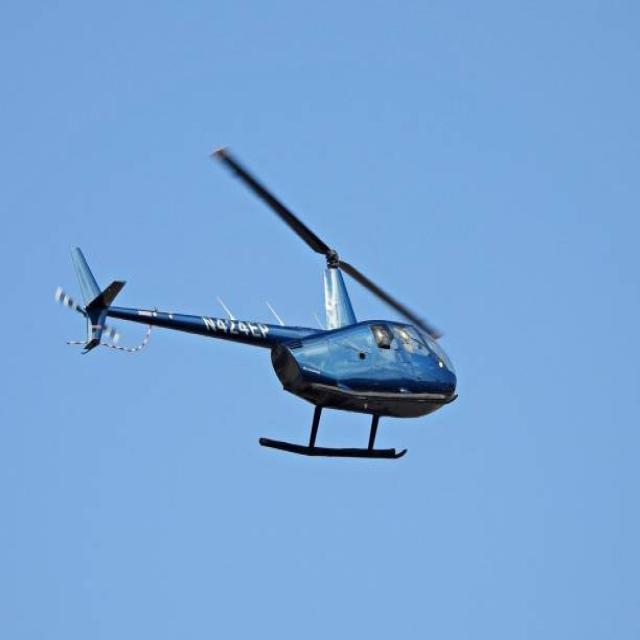CIV_HELO: (67, 237, 462, 465)
